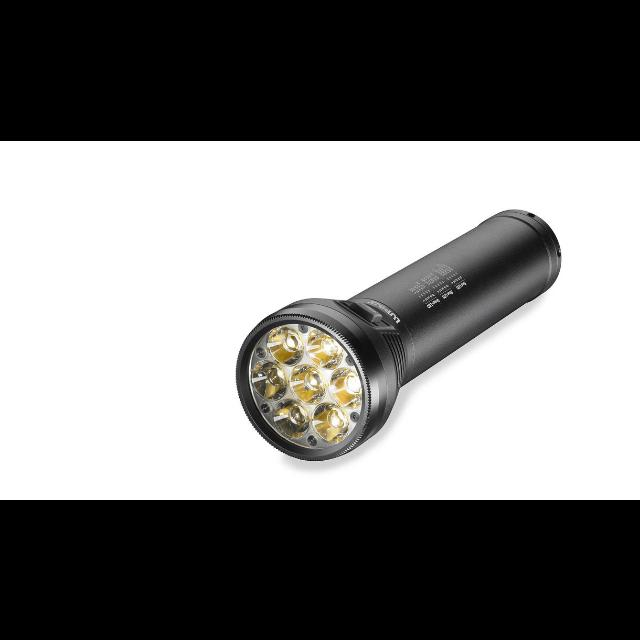Flashlight: (232, 204, 566, 466)
